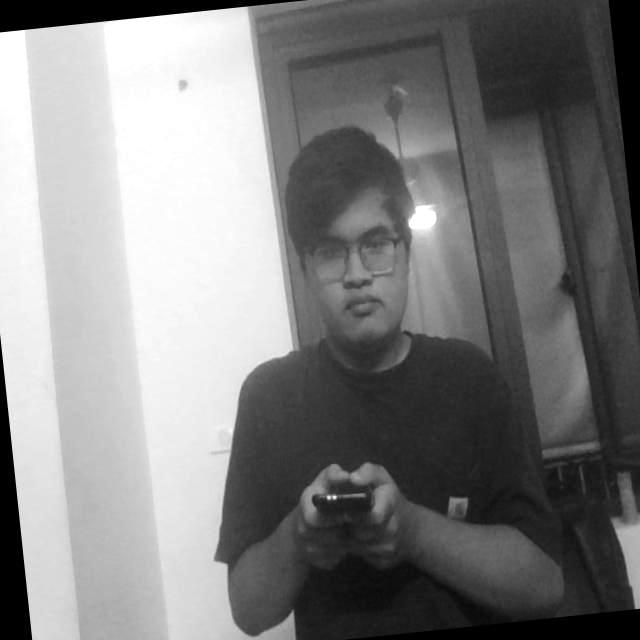phone: (308, 478, 390, 532)
